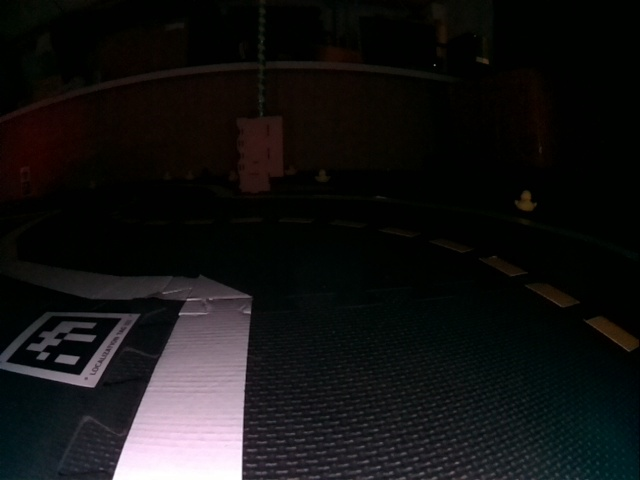Duckie: (513, 190, 538, 213), (316, 169, 331, 183)
QR code: (2, 311, 140, 389)
